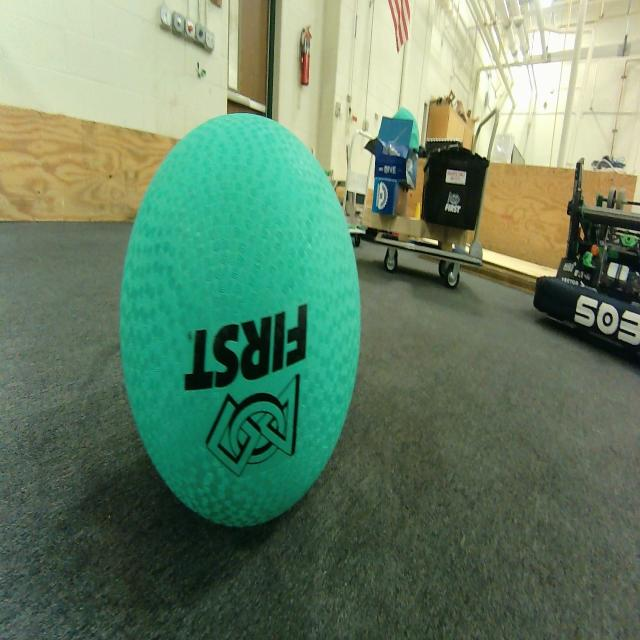algae: (120, 114, 360, 527)
